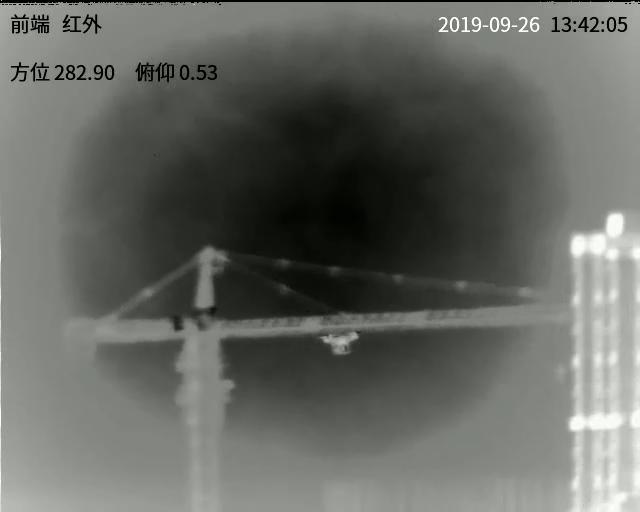uav: (318, 326, 364, 354)
